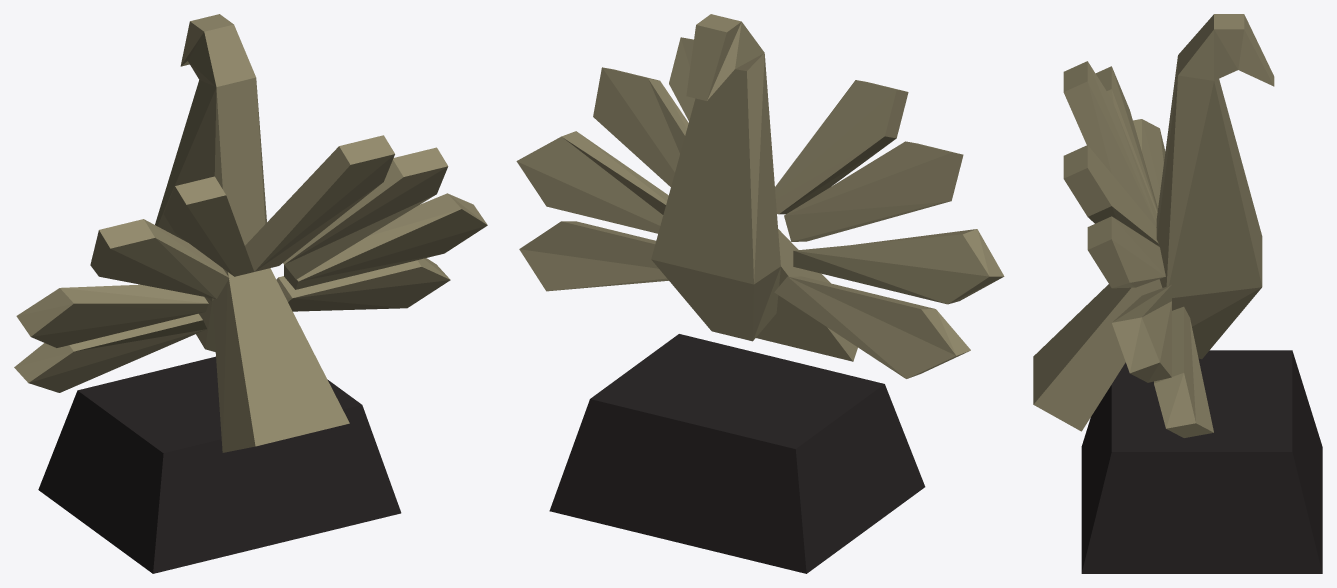
The model's file is obj_statue_8_0.obj.
3 views of the same model, side by side, from view 1: azimuth 30°, elevation 25°; view 2: azimuth 150°, elevation 25°; view 3: azimuth 270°, elevation 25° (orthographic). The views are drawn at different scales.
Size of the model in its own units: 0.7188 by 0.7031 by 0.375.
